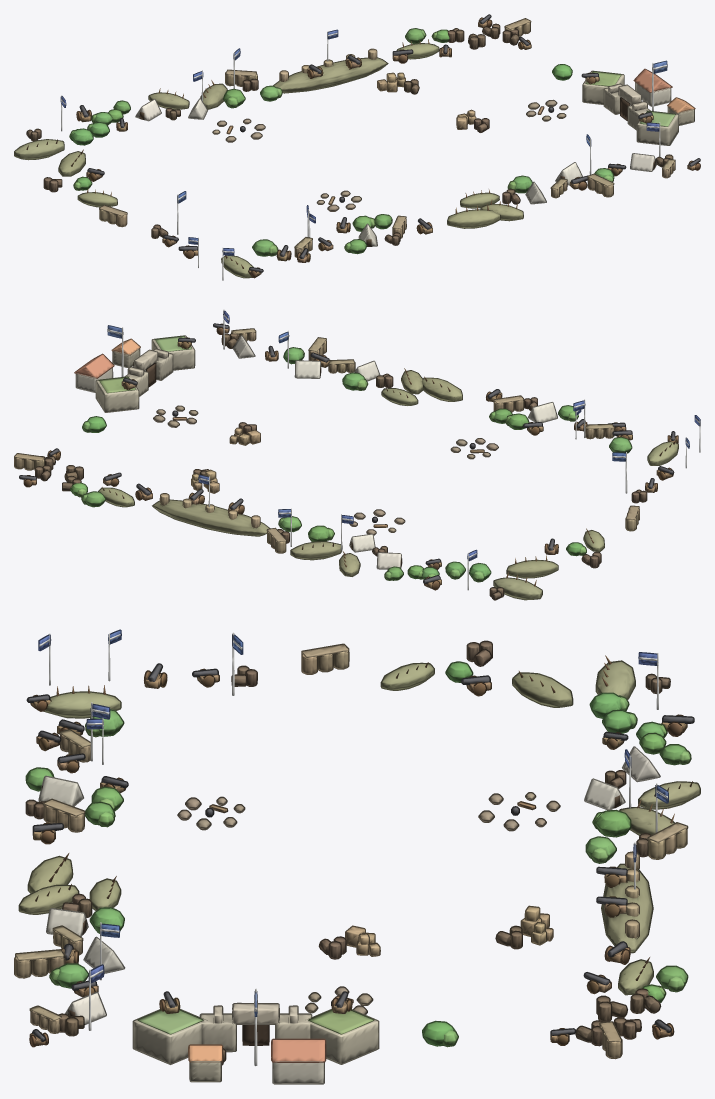
File: star_fort.glb
3 views of the same model, one above another, from view 1: azimuth 30°, elevation 25°; view 2: azimuth 150°, elevation 25°; view 3: azimuth 270°, elevation 25° (orthographic). The views are drawn at different scales.
Parts seen in each view (by area): view 1: Baked_matte, Baked_matte_Outline, Baked_metal, Baked_metal_Outline; view 2: Baked_matte, Baked_matte_Outline, Baked_metal, Baked_metal_Outline; view 3: Baked_matte, Baked_matte_Outline, Baked_metal, Baked_metal_Outline.
Part boxes in pixels (left/top/right/bottom): Baked_matte: left=14, top=18, right=699, bottom=280; Baked_matte_Outline: left=14, top=17, right=700, bottom=278; Baked_metal: left=80, top=15, right=699, bottom=271; Baked_metal_Outline: left=79, top=14, right=700, bottom=272; Baked_matte: left=14, top=309, right=700, bottom=599; Baked_matte_Outline: left=14, top=311, right=700, bottom=600; Baked_metal: left=19, top=324, right=674, bottom=583; Baked_metal_Outline: left=19, top=323, right=675, bottom=583; Baked_matte: left=15, top=630, right=699, bottom=1083; Baked_matte_Outline: left=14, top=629, right=700, bottom=1084; Baked_metal: left=28, top=664, right=693, bottom=1040; Baked_metal_Outline: left=26, top=663, right=694, bottom=1041.
Size of the model in its own units: 40.54 by 4.01 by 27.34.
